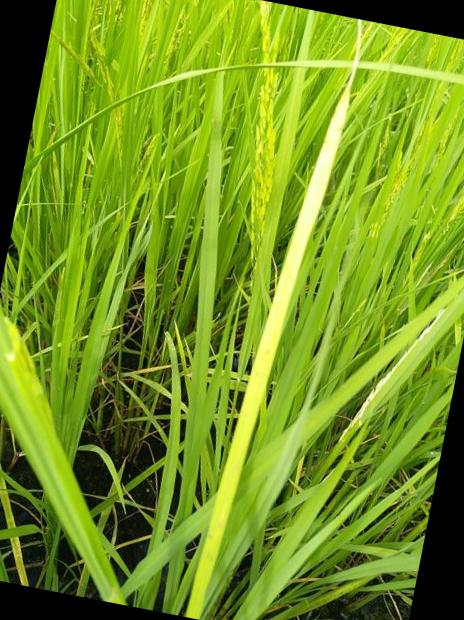Leaf Blight: (186, 18, 362, 620)
